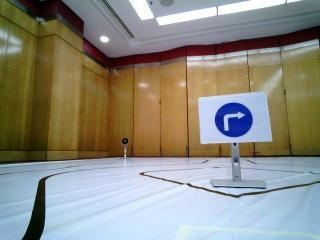right: (205, 99, 265, 141)
